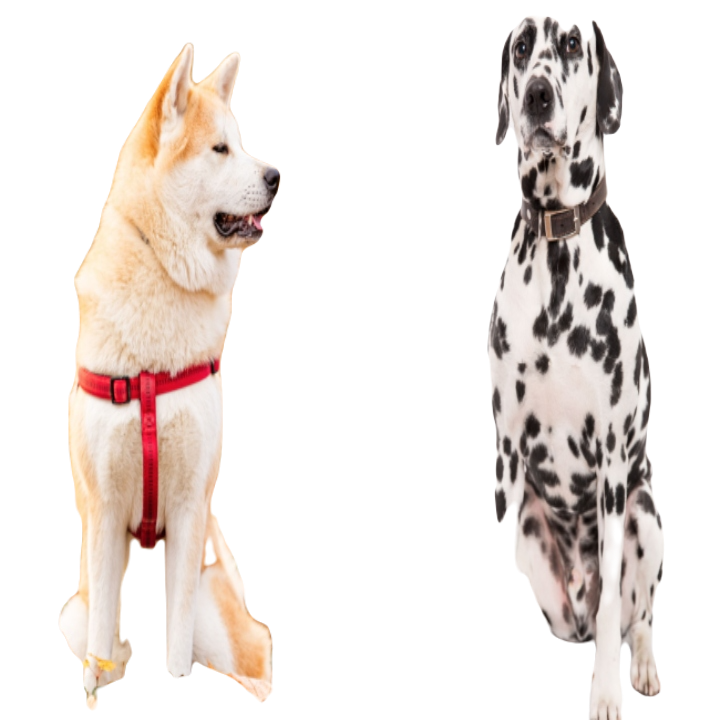Dog: (52, 42, 281, 705), (482, 12, 668, 719)
